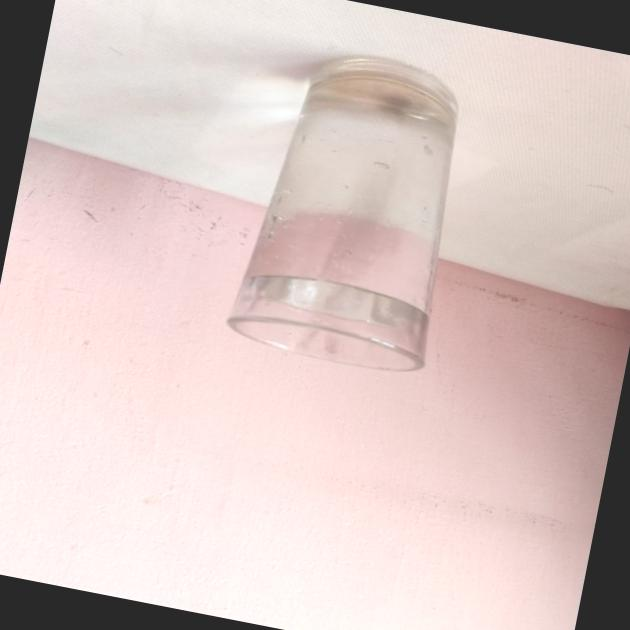glass of water: (188, 11, 504, 396)
